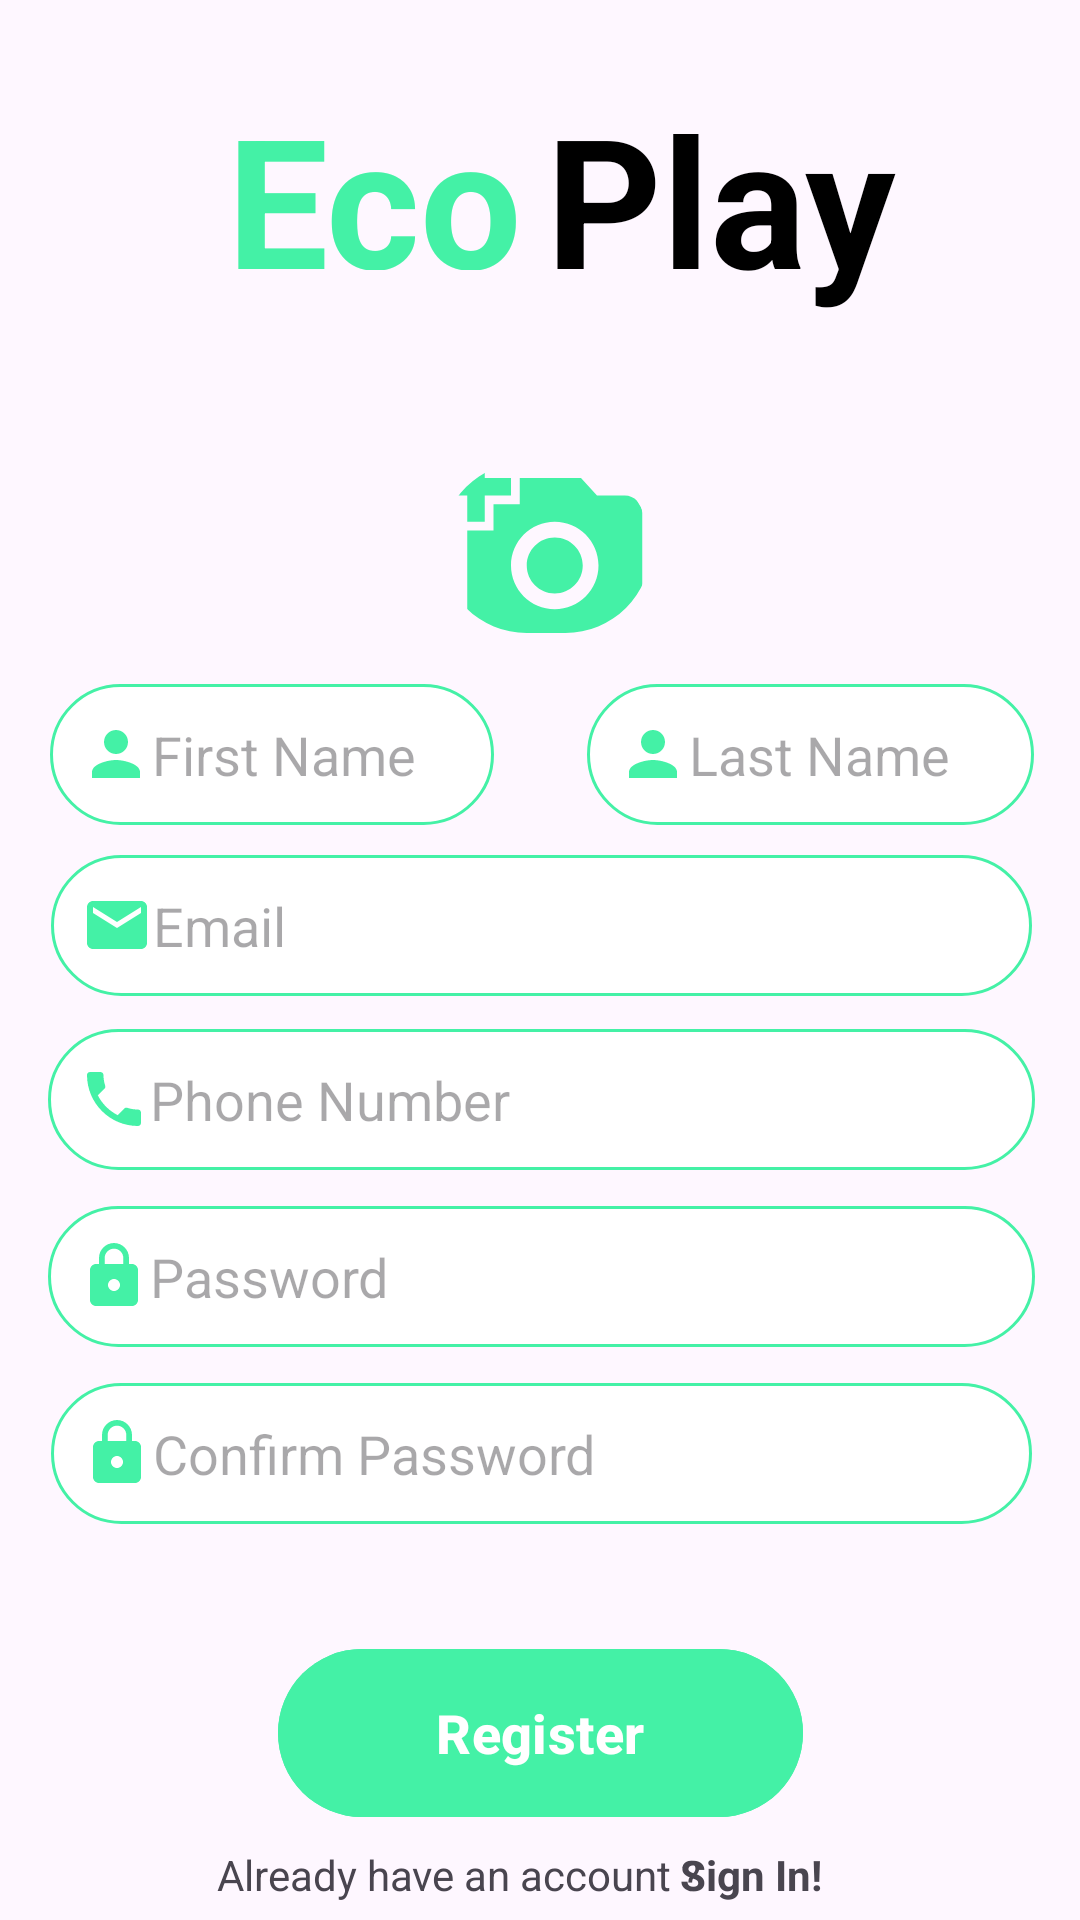

Where to tap for icons on this 1080×1920 app screen, as (x=x, y=y):
add photo: (x=551, y=553)
